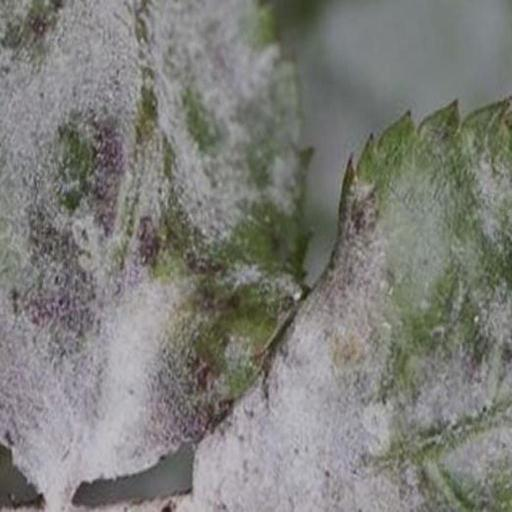powdery_mildew: (0, 0, 307, 510), (176, 100, 512, 512)
